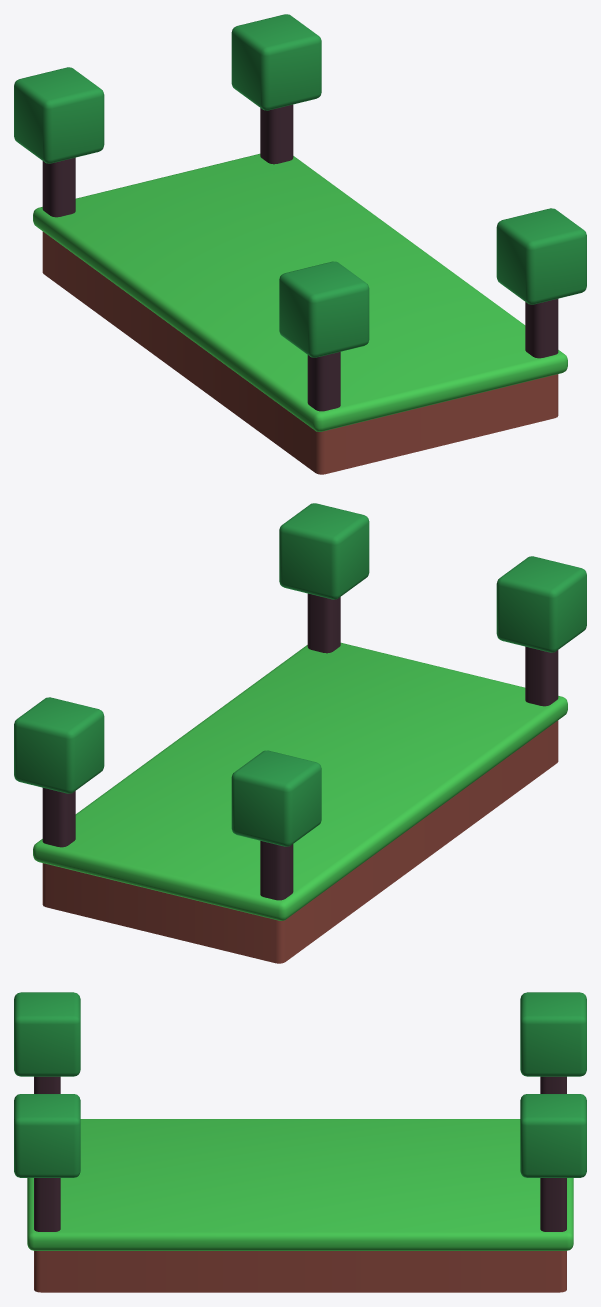
Rendered from GroundSummer.fbx.
3 renders of one model, top to bottom at view 1: azimuth 30°, elevation 25°; view 2: azimuth 150°, elevation 25°; view 3: azimuth 270°, elevation 25°, orthographic. The views are drawn at different scales.
Visible parts, largest first — view 1: GroundSummer; view 2: GroundSummer; view 3: GroundSummer.
Part boxes in pixels (x1,y1,x2,y2): GroundSummer: (14, 14, 586, 474); GroundSummer: (14, 503, 586, 963); GroundSummer: (14, 992, 586, 1292).
Size of the model in its own units: 920 by 600 by 1720.
